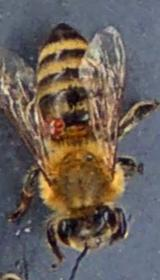varroa_mite: (38, 106, 72, 148)
